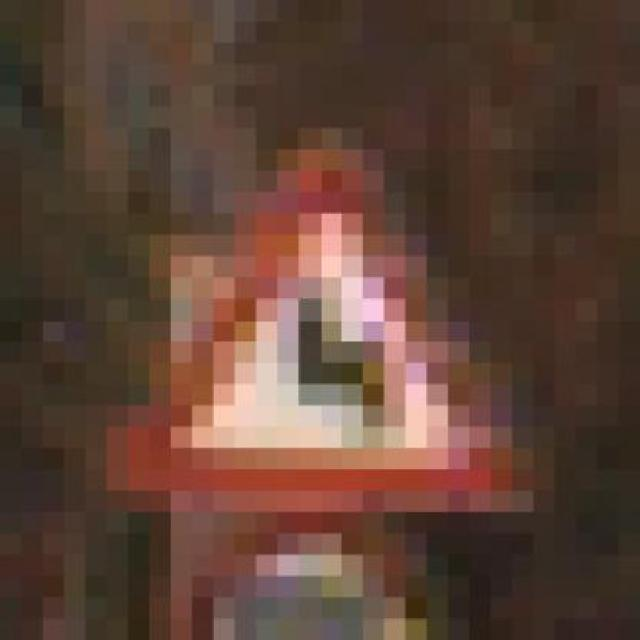Left Zig Zag Traffic: (85, 128, 512, 534)
